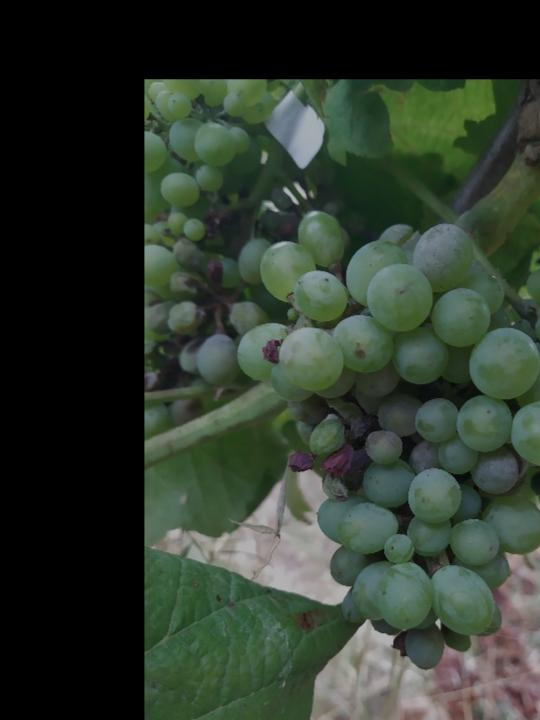grape: (232, 206, 540, 675)
